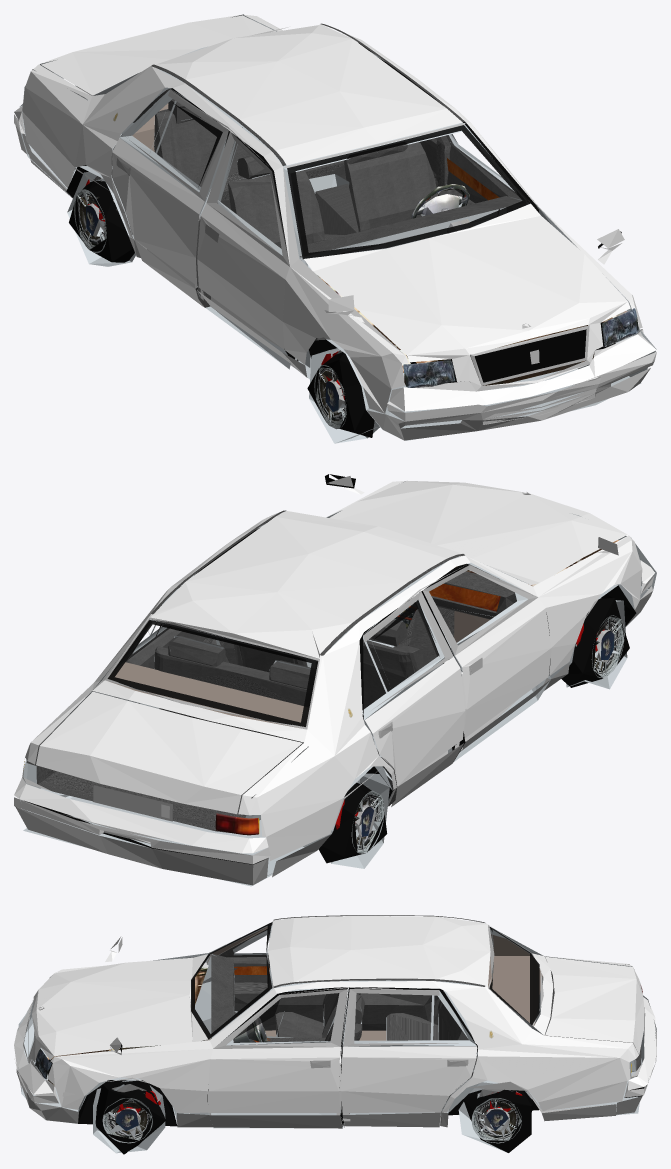
The model's file is century_1997.glb.
3 views of the same model, one above another, from view 1: azimuth 30°, elevation 25°; view 2: azimuth 150°, elevation 25°; view 3: azimuth 270°, elevation 25° (orthographic). The views are drawn at different scales.
Parts seen in each view (by area): view 1: Material2 (×2), Material3 (×8); view 2: Material2 (×2), Material3 (×8); view 3: Material2 (×2), Material3 (×8).
Boxes of the visible parts, left/top/right/bottom form: Material2 (×2): left=14, top=14, right=656, bottom=443; Material3 (×8): left=15, top=18, right=654, bottom=440; Material2 (×2): left=14, top=480, right=656, bottom=886; Material3 (×8): left=15, top=474, right=652, bottom=885; Material2 (×2): left=14, top=915, right=656, bottom=1153; Material3 (×8): left=16, top=915, right=656, bottom=1154.
Size of the model in its own units: 2.68 by 1.77 by 6.52.
26 materials, 8 textured.
